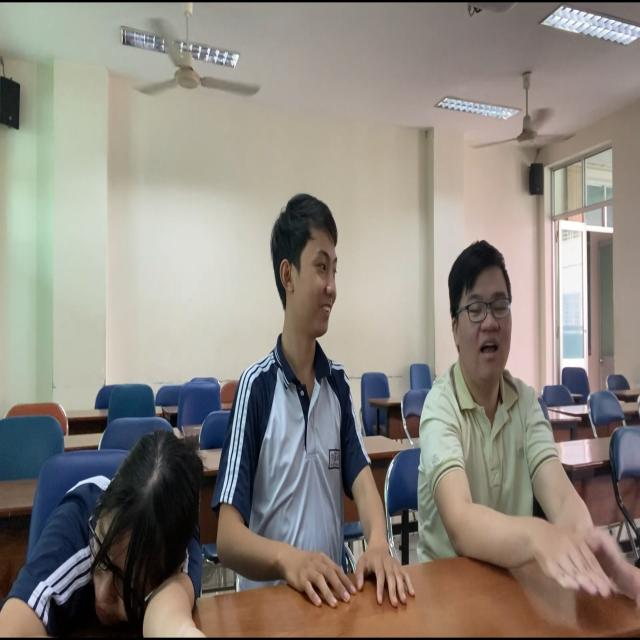sleep: (3, 393, 215, 640)
